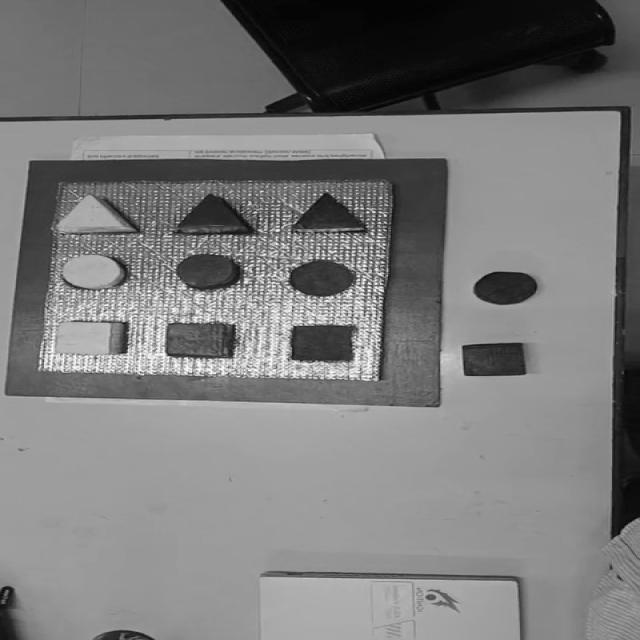bcircle: (472, 270, 538, 306)
bcube: (460, 341, 529, 376)
btriangle: (291, 192, 365, 234)
mtcircle: (289, 260, 356, 296)
mtcube: (289, 325, 355, 362)
rcircle: (174, 253, 240, 289)
rcube: (165, 322, 235, 358)
rtriangle: (174, 193, 252, 234)
wb: (38, 180, 396, 381)
ycircle: (59, 253, 128, 290)
ycube: (51, 320, 123, 356)
ytriangle: (54, 193, 139, 234)
